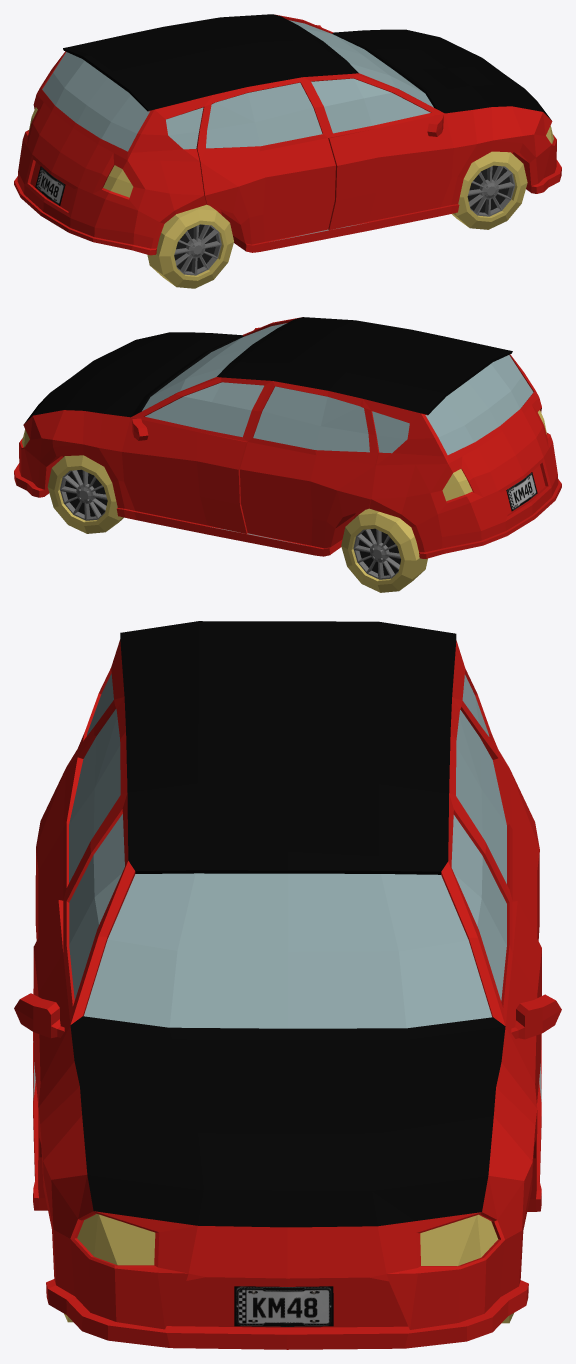
File: suv-base.glb
3 views of the same model, one above another, from view 1: azimuth 30°, elevation 25°; view 2: azimuth 150°, elevation 25°; view 3: azimuth 270°, elevation 25° (orthographic). The views are drawn at different scales.
Parts seen in each view (by area): view 1: SUV_Cube002, SUV_BackWheels_Cylinder_010, SUV_FrontRightWheel_Cylinder_008, Patente_Box009; view 2: SUV_Cube002, SUV_BackWheels_Cylinder_010, SUV_FrontLeftWheel_Cylinder_013, Patente_Box009; view 3: SUV_Cube002, Patente_Box008.
Boxes of the visible parts, <box> form: SUV_Cube002: <box>14,14,561,255</box>; SUV_BackWheels_Cylinder_010: <box>147,204,233,288</box>; SUV_FrontRightWheel_Cylinder_008: <box>452,151,527,229</box>; Patente_Box009: <box>35,166,65,205</box>; SUV_Cube002: <box>14,317,561,558</box>; SUV_BackWheels_Cylinder_010: <box>341,508,427,592</box>; SUV_FrontLeftWheel_Cylinder_013: <box>47,455,123,533</box>; Patente_Box009: <box>506,472,537,511</box>; SUV_Cube002: <box>14,621,561,1349</box>; Patente_Box008: <box>234,1286,333,1326</box>.
Bounding box in the file's own units: 4.4 × 1.7 × 2.21.
8 materials, 1 textured.
